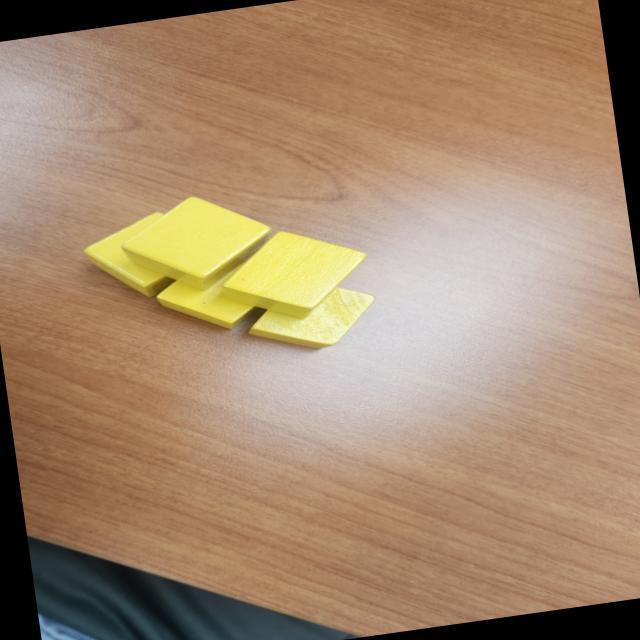yellow: (115, 185, 285, 302), (212, 217, 378, 331), (76, 203, 216, 306), (150, 254, 289, 340), (240, 280, 382, 360)
